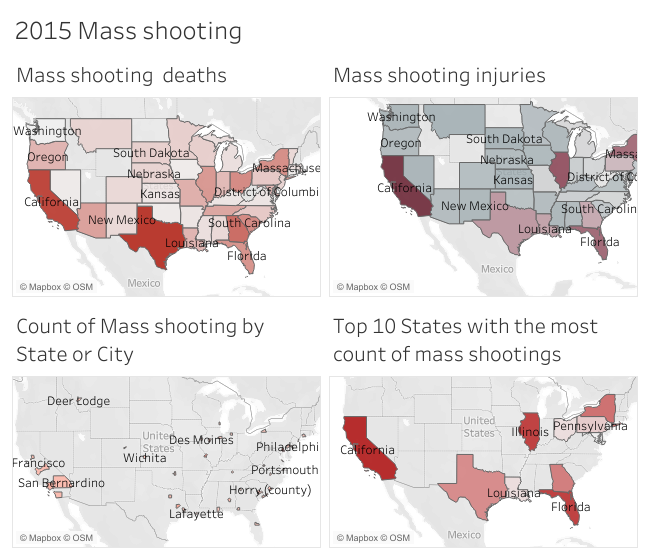

What the dashboard file says about the page in this screenshot:
{"tool":"tableau","page":{"name":"Dashboard 1","canvas":[650,860],"ordinal":0},"visuals":[{"type":"title","box":[8,10.9,634,57.1]},{"type":"worksheet","title":"Mass shooting Deaths","mark":"Automatic","box":[8,67.9,317,390]},{"type":"worksheet","title":"Mass shooting injuries","mark":"Automatic","box":[325,67.9,317,390]},{"type":"worksheet","title":"Count of mass shooting","mark":"Automatic","box":[8,457.9,317,391.2]},{"type":"worksheet","title":"Top 10","mark":"Automatic","box":[325,457.9,317,391.2]}]}

Visuals, with their boxes on the page's 650x860 design canvas (x1, y1, x2, y2). These are canvas units, not pixel positions in the 649x559 screenshot, which may show the page scaled, cropped or inside an application window:
title: (8,11,642,68)
"Mass shooting Deaths" worksheet: (8,68,325,458)
"Mass shooting injuries" worksheet: (325,68,642,458)
"Count of mass shooting" worksheet: (8,458,325,849)
"Top 10" worksheet: (325,458,642,849)
